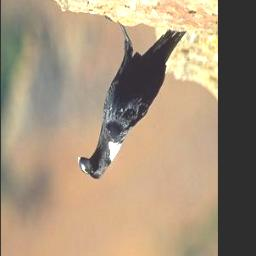Crow: (77, 15, 187, 182)
